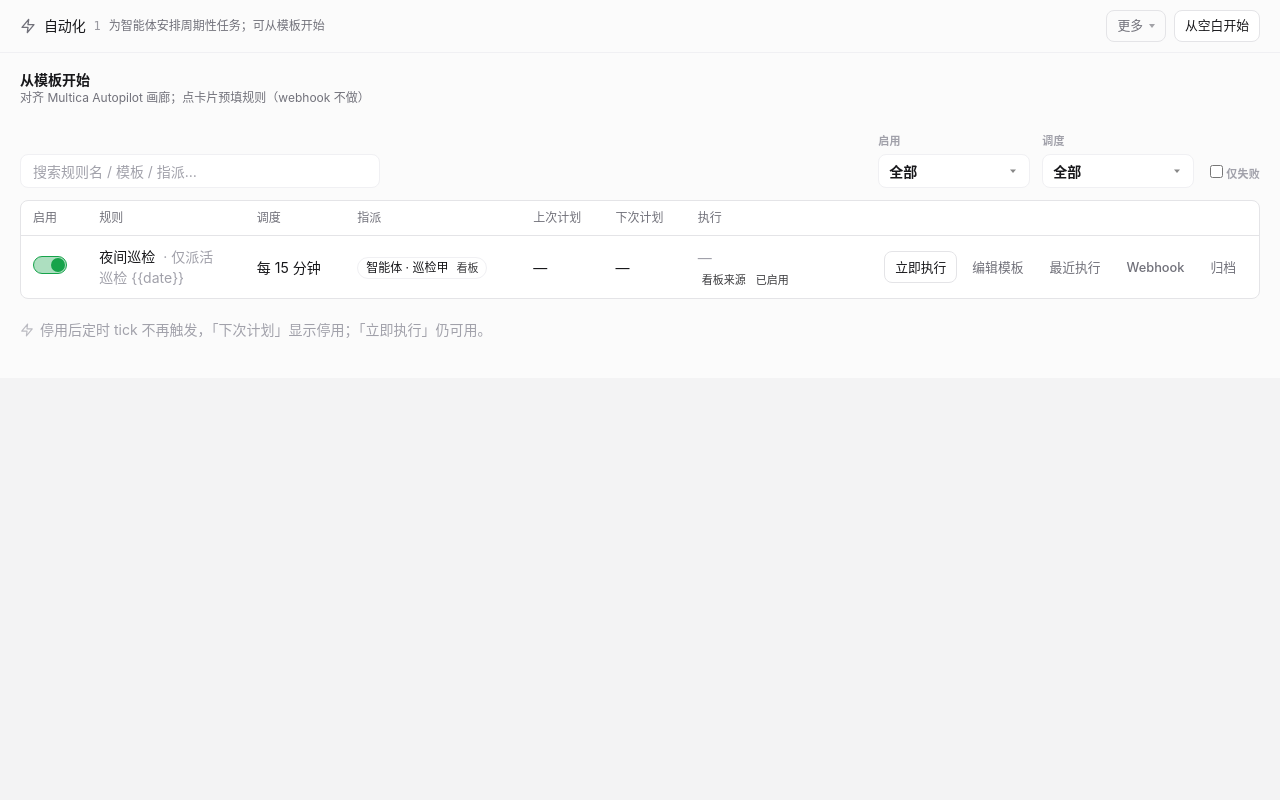
Scenario: AutomationPage webhook section › a rule without a custom cap renders the default placeholder in the rate input
This screenshot has width=1280, height=800.
What coordinates should you click on to do the following:
click the button with test id "automation-webhook-toggle-rule-1"
I would click on:
 (1155, 267)
Its box is x1=1116 y1=251 x2=1195 y2=283.
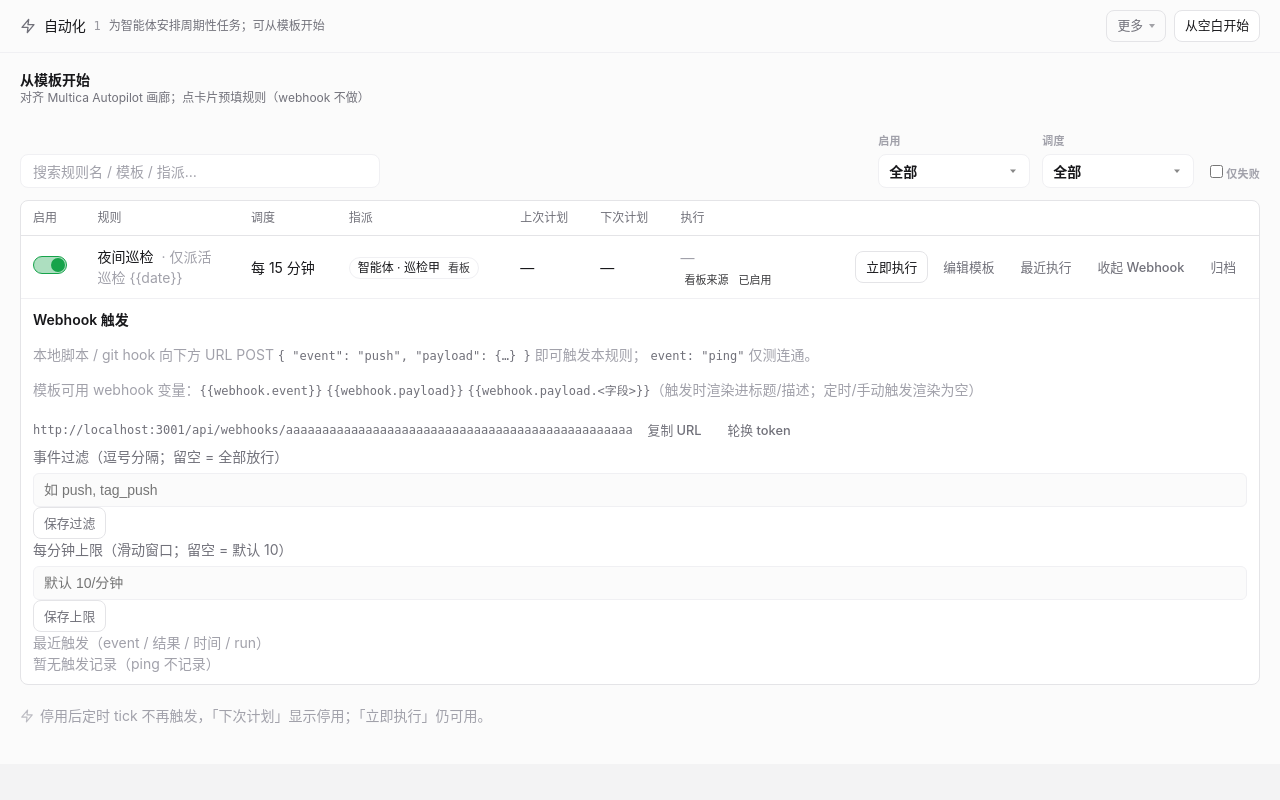
Check: the element with test id "automation-webhook-section" is shown, box x1=33 y1=309 x2=1247 y2=674
Check: the number field with test id "automation-webhook-rate-input" is empty, box x1=33 y1=566 x2=1247 y2=600
